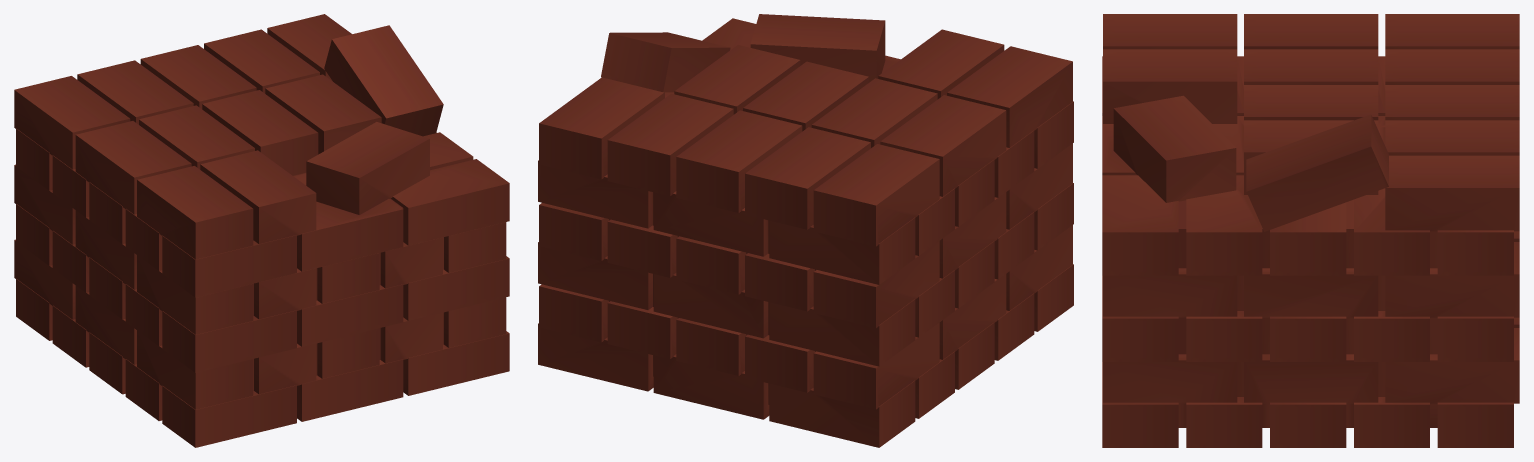
File: bricks.fbx
3 views of the same model, side by side, from view 1: azimuth 30°, elevation 25°; view 2: azimuth 150°, elevation 25°; view 3: azimuth 270°, elevation 25° (orthographic). The views are drawn at different scales.
Parts seen in each view (by area): view 1: brick_pile; view 2: brick_pile; view 3: brick_pile.
Part boxes in pixels (x1,y1,x2,y2): brick_pile: (14, 14, 509, 447); brick_pile: (538, 14, 1073, 447); brick_pile: (1102, 14, 1519, 447).
Size of the model in its own units: 236 by 188 by 237.
